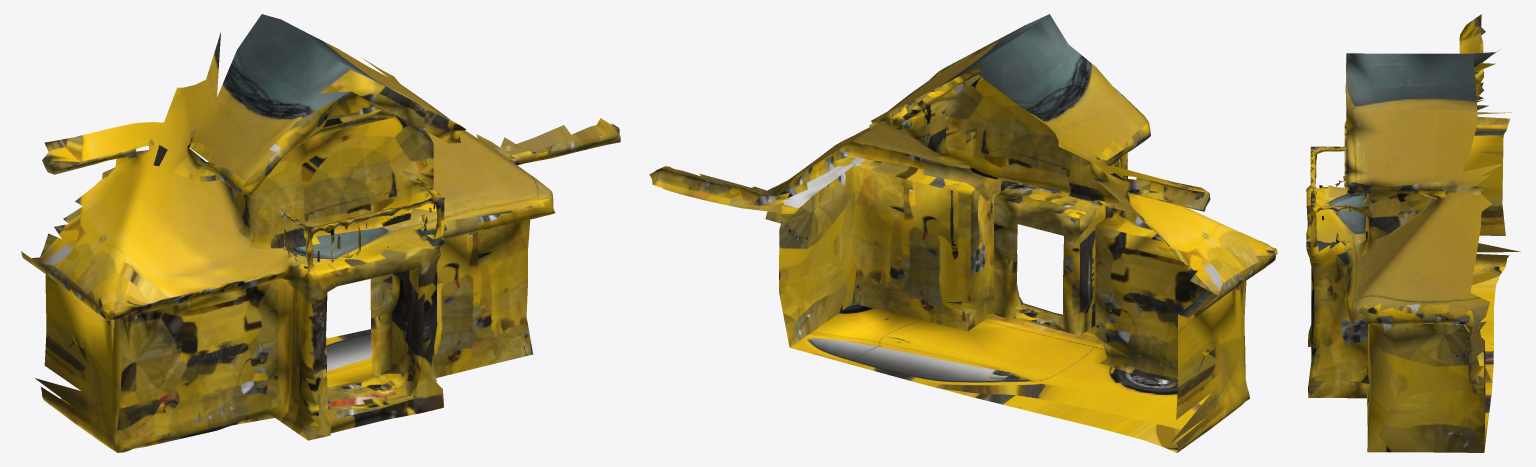
Rendered from evCıkıs.fbx.
3 renders of one model, left to right at view 1: azimuth 30°, elevation 25°; view 2: azimuth 150°, elevation 25°; view 3: azimuth 270°, elevation 25°, orthographic. The views are drawn at different scales.
Parts seen in each view (by area): view 1: Mesh0; view 2: Mesh0; view 3: Mesh0.
Boxes of the visible parts, left/top/right/bottom form: Mesh0: left=21, top=14, right=620, bottom=452; Mesh0: left=649, top=14, right=1277, bottom=452; Mesh0: left=1306, top=14, right=1520, bottom=452.
Bounding box in the file's own units: 191 × 106 × 66.25.
